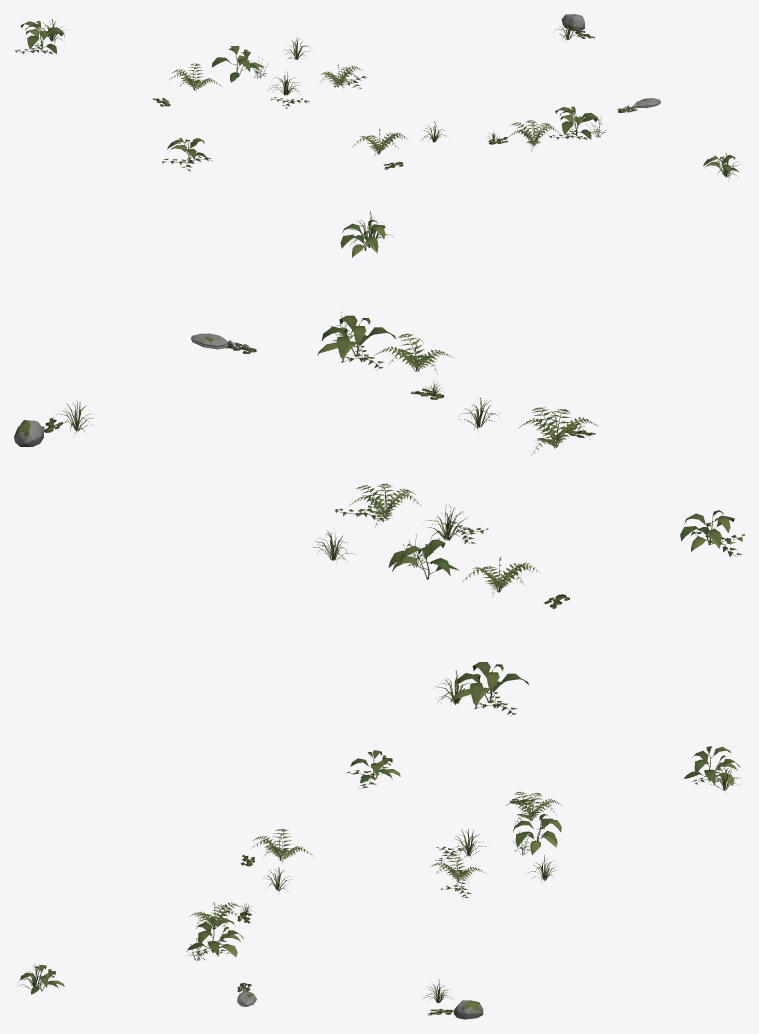
Rendered from dressing_stage18.glb.
The picture shows the model from 3 angles, top to bottom: view 1: azimuth 30°, elevation 25°; view 2: azimuth 150°, elevation 25°; view 3: azimuth 270°, elevation 25°; orthographic projection. The views are drawn at different scales.
Visible parts, largest first — view 1: stage1_dressing_foliage, stage1_dressing_rocks; view 2: stage1_dressing_foliage, stage1_dressing_rocks; view 3: stage1_dressing_foliage, stage1_dressing_rocks.
Part boxes in pixels (box(x1,y1,x2,y2)): stage1_dressing_foliage: box(15, 18, 739, 181); stage1_dressing_rocks: box(561, 14, 660, 110); stage1_dressing_foliage: box(42, 211, 744, 715); stage1_dressing_rocks: box(14, 333, 249, 446); stage1_dressing_foliage: box(19, 746, 740, 1015); stage1_dressing_rocks: box(237, 982, 483, 1019).
Size of the model in its own units: 7.13 by 0.4278 by 8.74.
